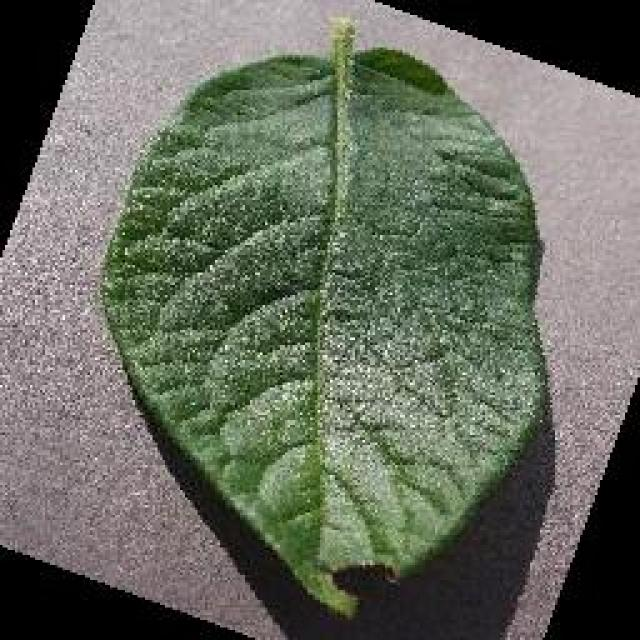Potato___healthy: (96, 12, 549, 625)
